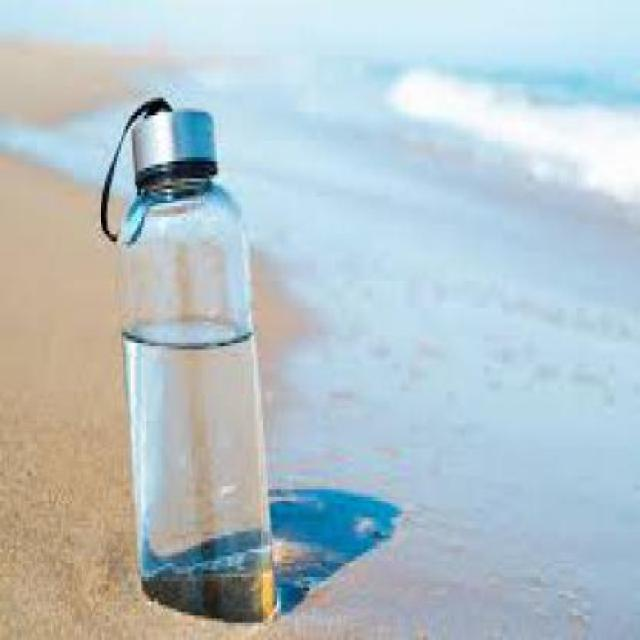Drinking: (112, 76, 293, 633)
